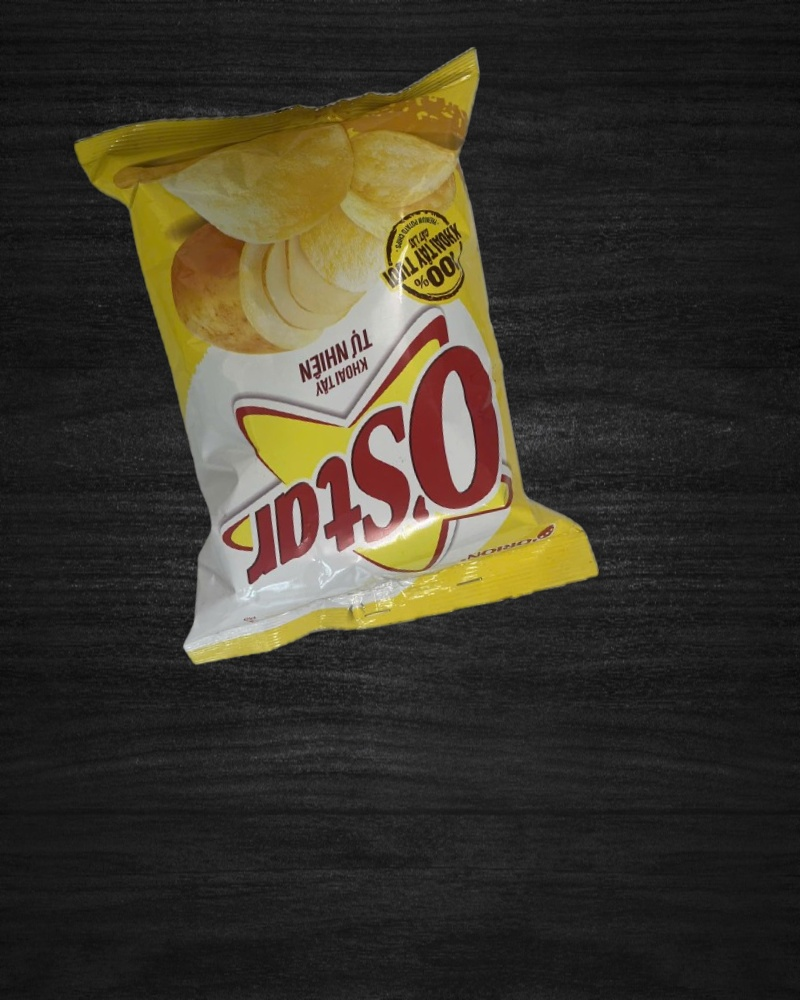Snack cua: (76, 48, 600, 663)
